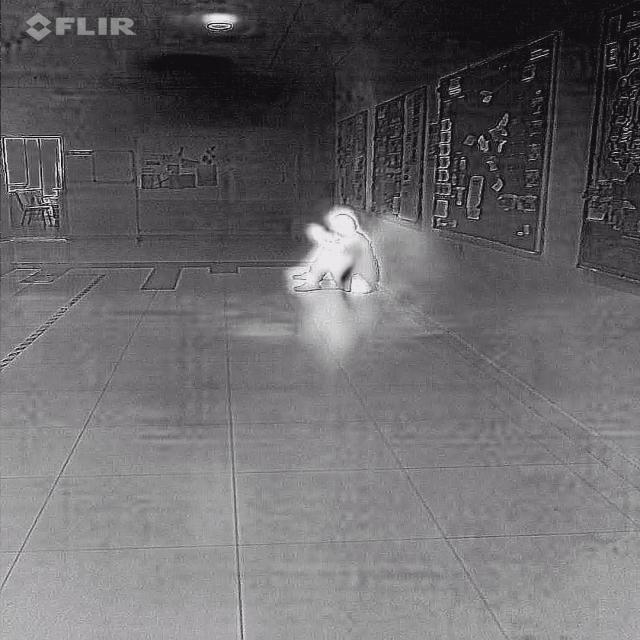Victim: (282, 195, 386, 299)
